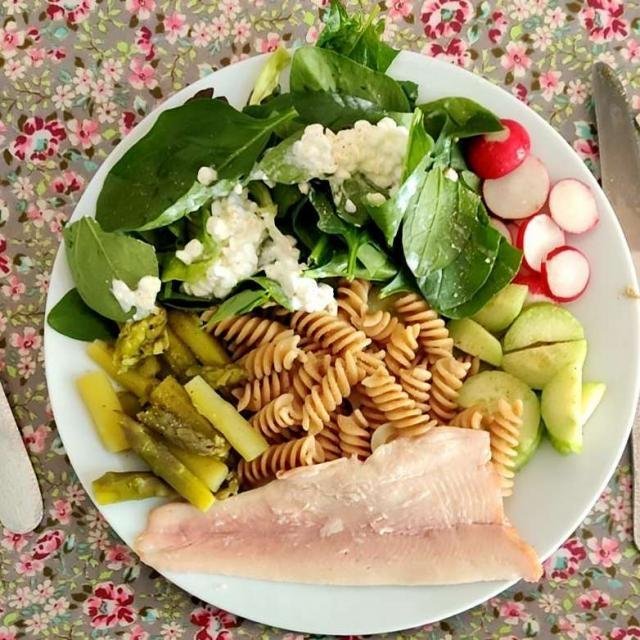asparagus: (100, 311, 255, 507)
cheese: (182, 122, 411, 300)
cucumber: (443, 286, 598, 450)
pasta: (241, 285, 466, 466)
radish: (463, 119, 591, 292)
spinach: (55, 18, 513, 324)
